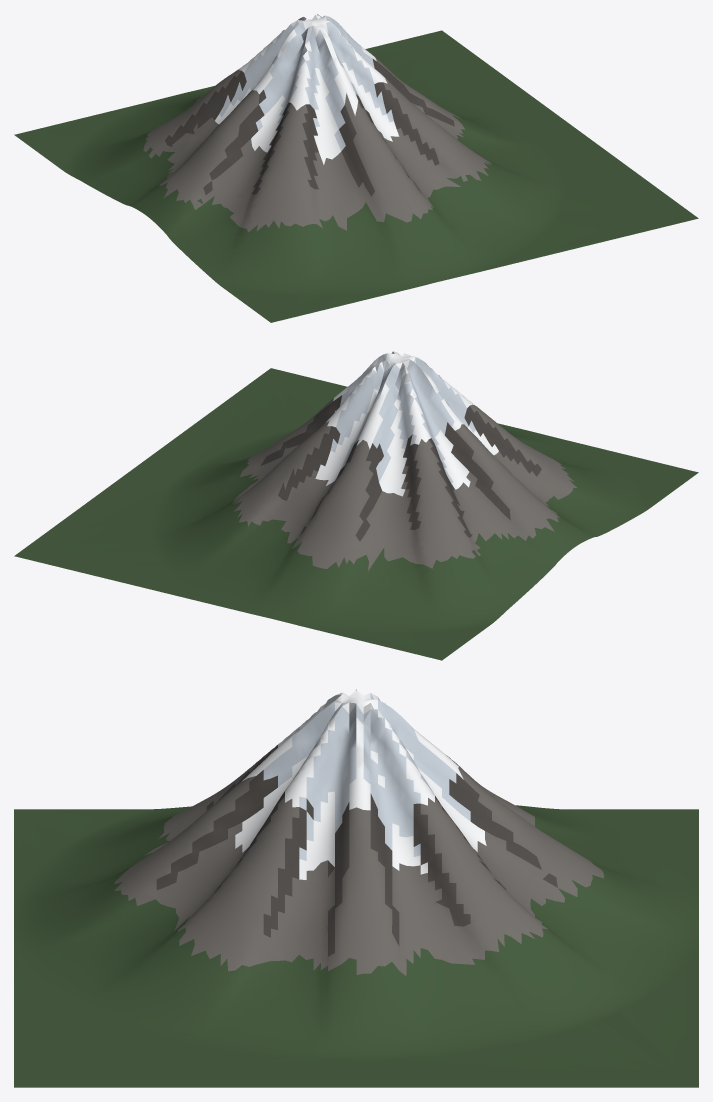
Rendered from landmark-volcano-mid.glb.
The picture shows the model from 3 angles, top to bottom: view 1: azimuth 30°, elevation 25°; view 2: azimuth 150°, elevation 25°; view 3: azimuth 270°, elevation 25°; orthographic projection. The views are drawn at different scales.
Visible parts, largest first — view 1: volcano.001; view 2: volcano.001; view 3: volcano.001.
Boxes of the visible parts, bbox=[...] form: volcano.001: bbox=[14, 14, 698, 322]; volcano.001: bbox=[14, 351, 698, 660]; volcano.001: bbox=[14, 689, 698, 1087].
Size of the model in its own units: 2.65 by 1 by 2.76.
